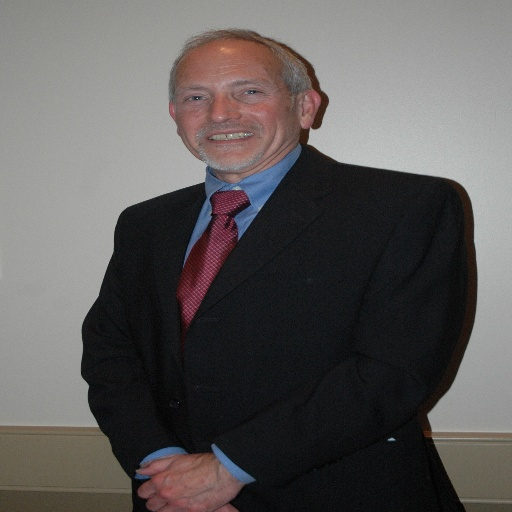hand: (140, 462, 236, 511)
